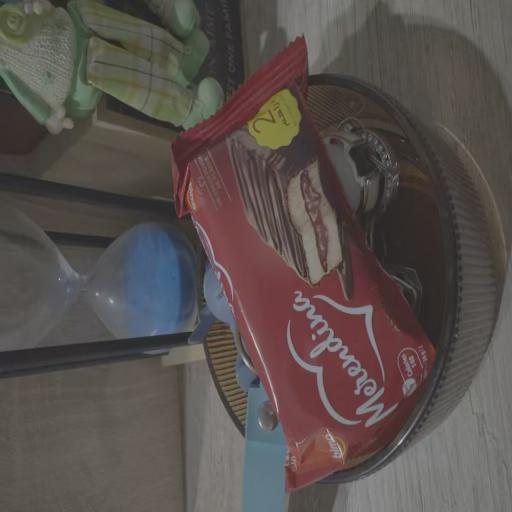merendina: (146, 27, 465, 491)
